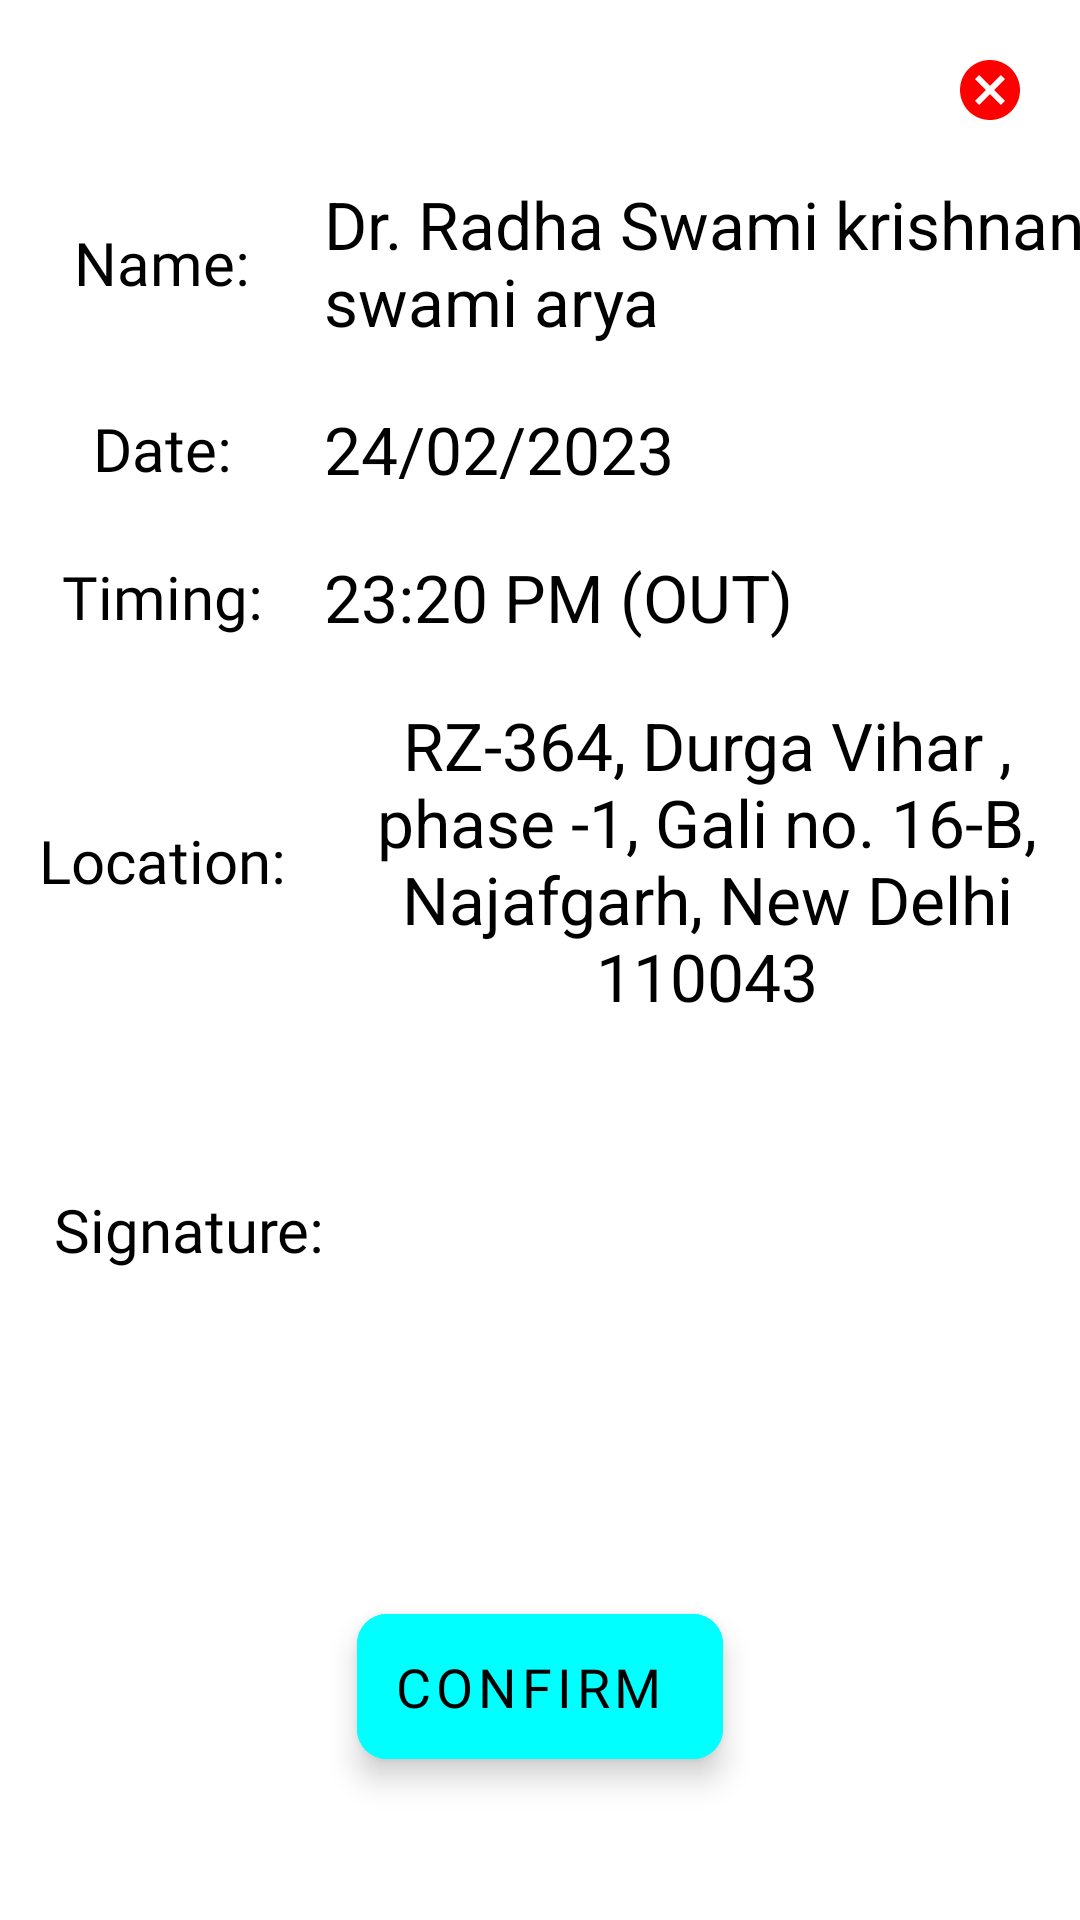

Named icons in this screenshot (1080px×1920px) and their centers, point (x, y):
cancel: point (990, 90)
